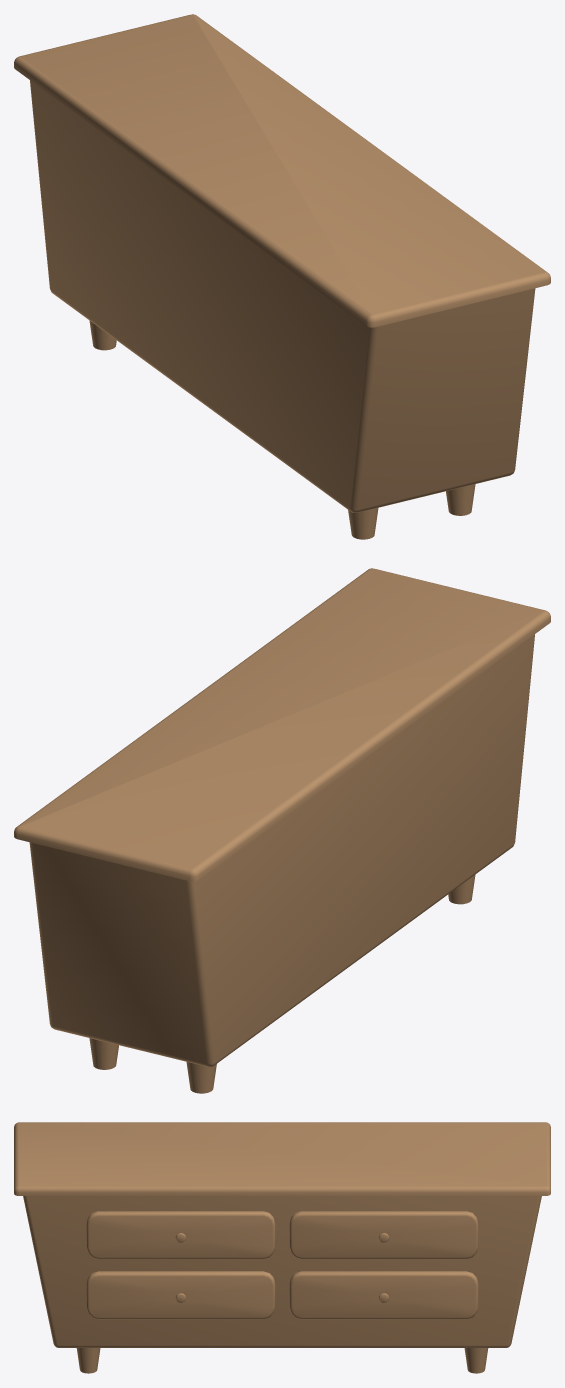
File: present_wardrobe.fbx
3 renders of one model, top to bottom at view 1: azimuth 30°, elevation 25°; view 2: azimuth 150°, elevation 25°; view 3: azimuth 270°, elevation 25°, orthographic. The views are drawn at different scales.
Parts seen in each view (by area): view 1: Present, Cylinder; view 2: Present, Cylinder; view 3: Present, Present.shelves, Cylinder.
Part boxes in pixels (bbox=[...]): Present: bbox=[14, 14, 550, 512]; Cylinder: bbox=[89, 320, 475, 539]; Present: bbox=[14, 568, 550, 1066]; Cylinder: bbox=[89, 874, 475, 1093]; Present: bbox=[14, 1122, 550, 1347]; Present.shelves: bbox=[86, 1211, 478, 1319]; Cylinder: bbox=[76, 1348, 488, 1373].
Size of the model in its own units: 148 by 200 by 494.
